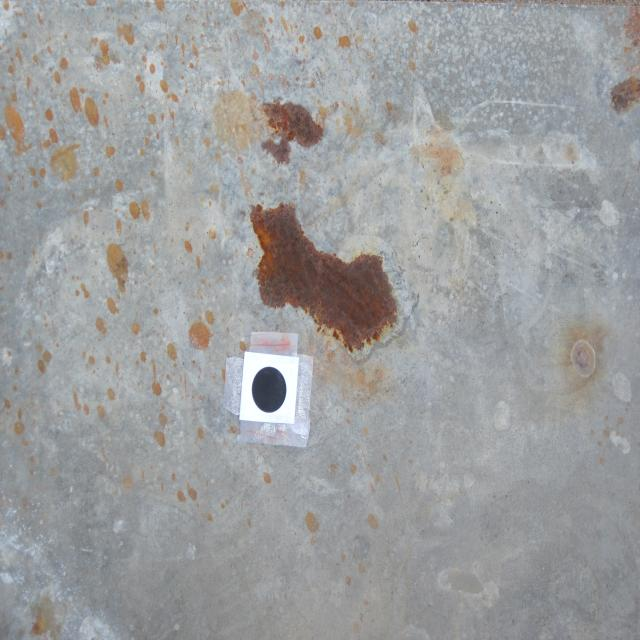corrosion: (250, 198, 399, 356), (262, 98, 322, 171), (609, 69, 640, 111)
